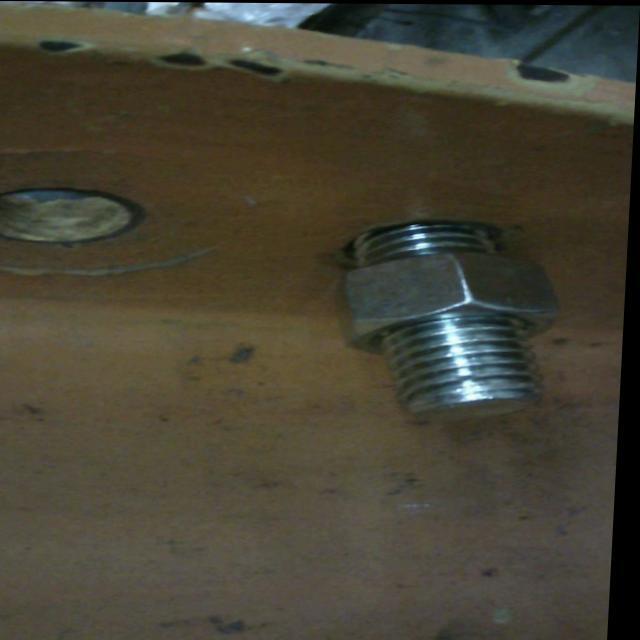Loose bolt: (346, 243, 565, 416)
Missing bolt: (1, 187, 146, 247)
Regular bolt: (334, 220, 573, 425)
